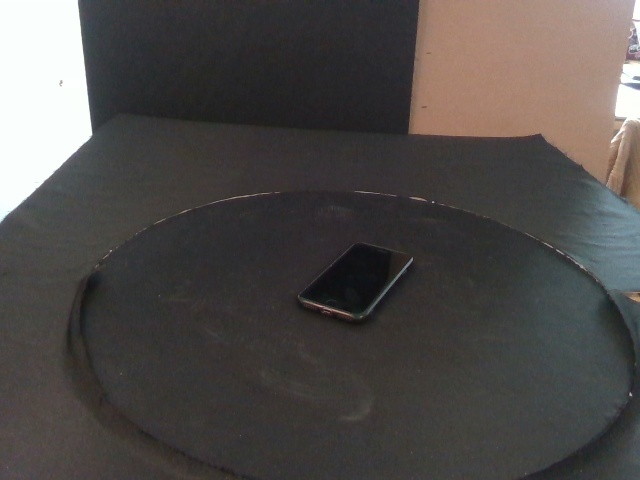phone: (297, 241, 414, 320)
